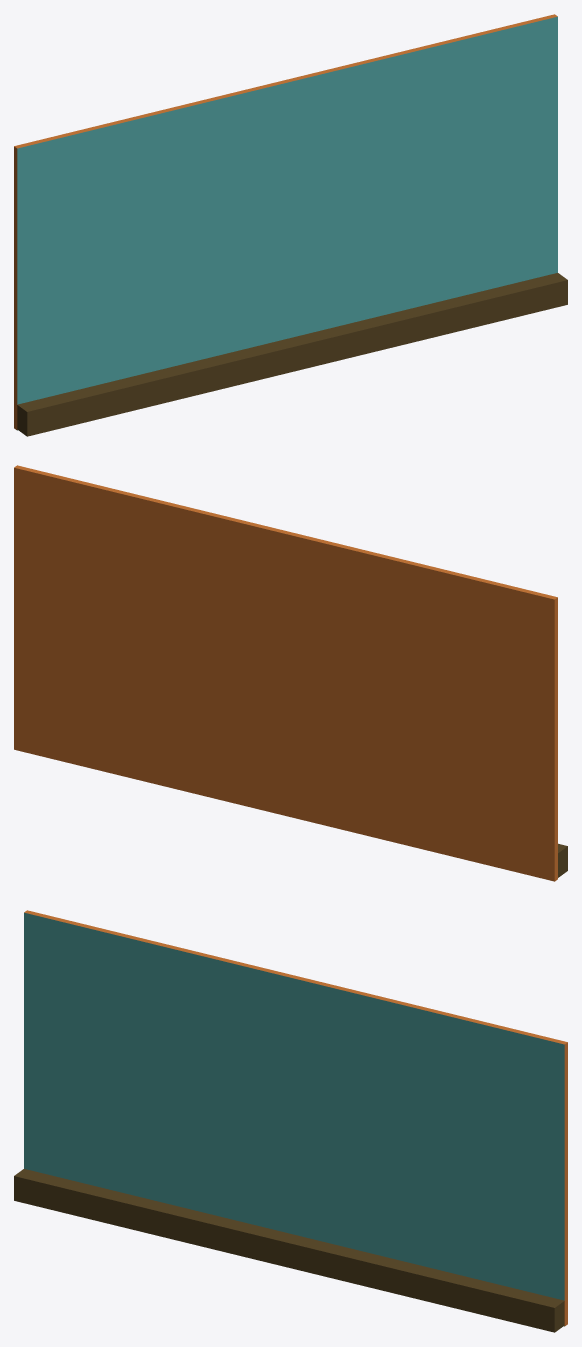
The model's file is top wall.fbx.
3 renders of one model, top to bottom at view 1: azimuth 30°, elevation 25°; view 2: azimuth 150°, elevation 25°; view 3: azimuth 330°, elevation 25°, orthographic.
Parts seen in each view (by area): view 1: Simple Wall Mesh; view 2: Simple Wall Mesh; view 3: Simple Wall Mesh.
Part boxes in pixels (x1,y1,x2,y2): Simple Wall Mesh: [14, 14, 567, 436]; Simple Wall Mesh: [14, 465, 567, 881]; Simple Wall Mesh: [14, 910, 567, 1332].
Size of the model in its own units: 200 by 99.66 by 8.44.
